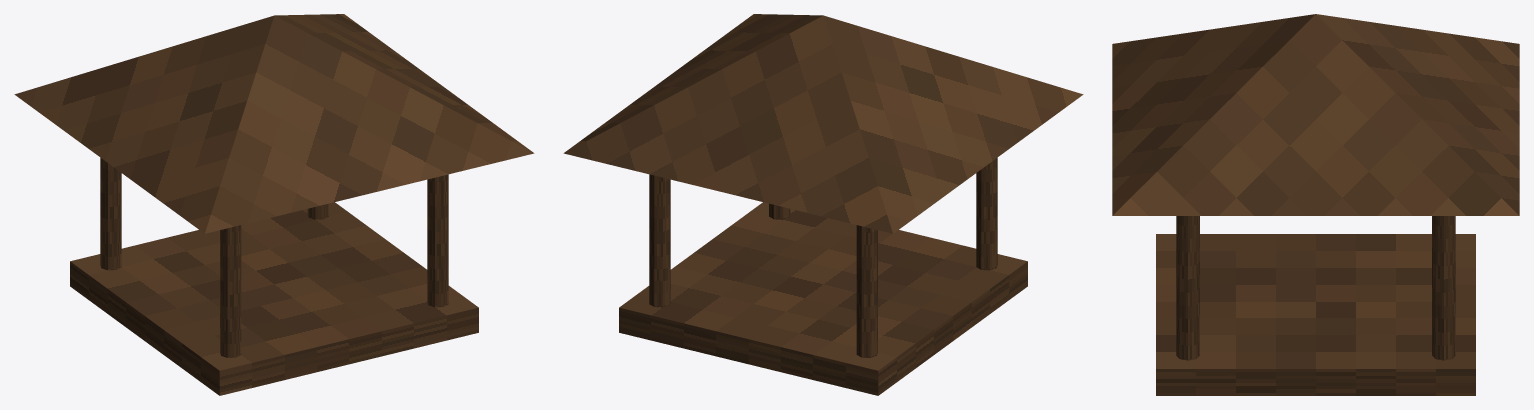
File: pavilion_41.glb
3 views of the same model, side by side, from view 1: azimuth 30°, elevation 25°; view 2: azimuth 150°, elevation 25°; view 3: azimuth 270°, elevation 25° (orthographic). The views are drawn at different scales.
Parts seen in each view (by area): view 1: Roof, Floor, Column.002, Column, Column.001; view 2: Roof, Floor, Column.003, Column.001, Column; view 3: Roof, Floor, Column.002, Column.003.
Boxes of the visible parts, left/top/right/bottom form: Roof: left=14, top=14, right=534, bottom=233; Floor: left=70, top=202, right=478, bottom=395; Column.002: left=427, top=174, right=448, bottom=307; Column: left=220, top=225, right=241, bottom=357; Column.001: left=100, top=157, right=121, bottom=270; Roof: left=563, top=14, right=1083, bottom=233; Floor: left=619, top=202, right=1027, bottom=395; Column.003: left=649, top=174, right=670, bottom=307; Column.001: left=856, top=225, right=877, bottom=357; Column: left=976, top=157, right=997, bottom=270; Roof: left=1112, top=14, right=1519, bottom=215; Floor: left=1156, top=234, right=1475, bottom=395; Column.002: left=1176, top=216, right=1199, bottom=360; Column.003: left=1432, top=216, right=1455, bottom=360.
Size of the model in its own units: 4.12 by 3.51 by 4.12.
Materials: 1 (1 with a texture image).
